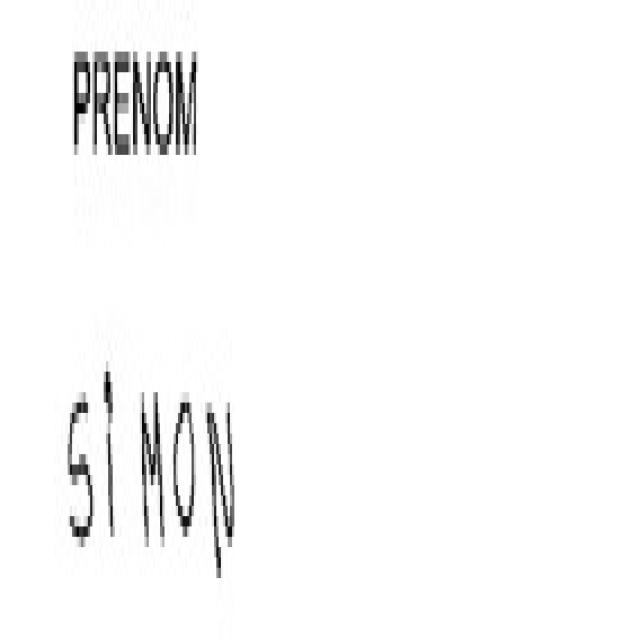Alphabets: (74, 52, 90, 149)
E: (116, 36, 131, 205)
I: (100, 340, 128, 599)
M: (133, 384, 173, 601), (175, 24, 197, 207)
N: (204, 399, 241, 599), (135, 39, 152, 235)
O: (174, 387, 198, 624), (155, 45, 173, 200)
P: (62, 28, 90, 193)
R: (93, 30, 114, 219)
S: (62, 399, 99, 563)
